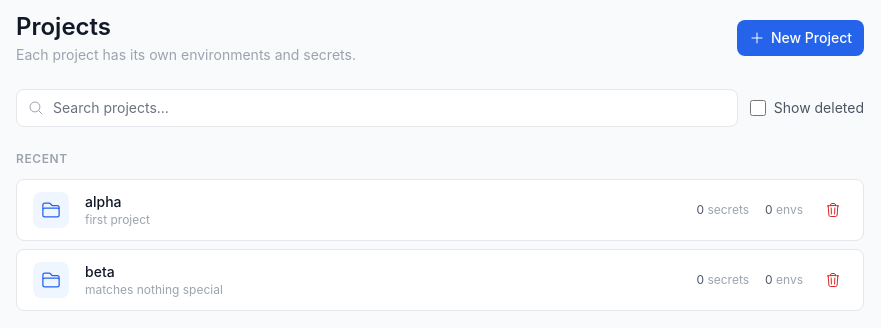
Test case: ProjectsListPage › filters by name and description, hides Recent/All Projects headers while searching
Type "first" into the field with placeholder "Search projects…" at (377, 108), box [16,89,738,127]
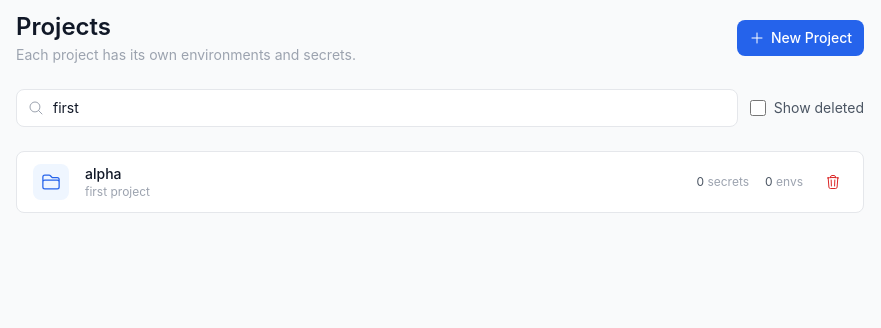
Check: the text "alpha" is shown, box [85,165,122,182]
Check: the button "beta" is gone
Check: the heading "Recent" is gone
